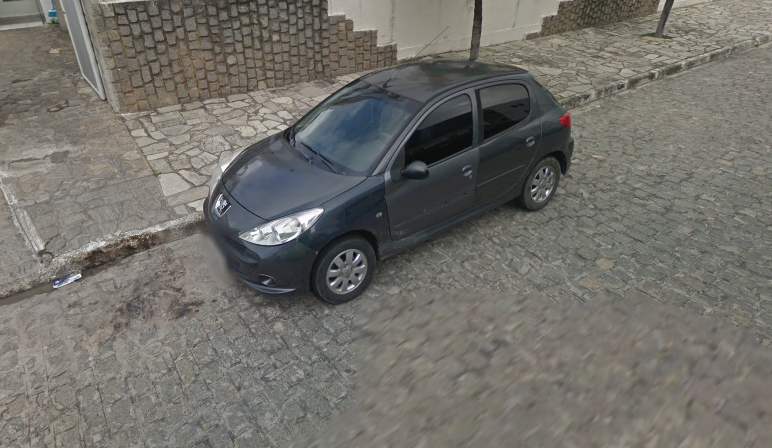car: (201, 22, 578, 310)
